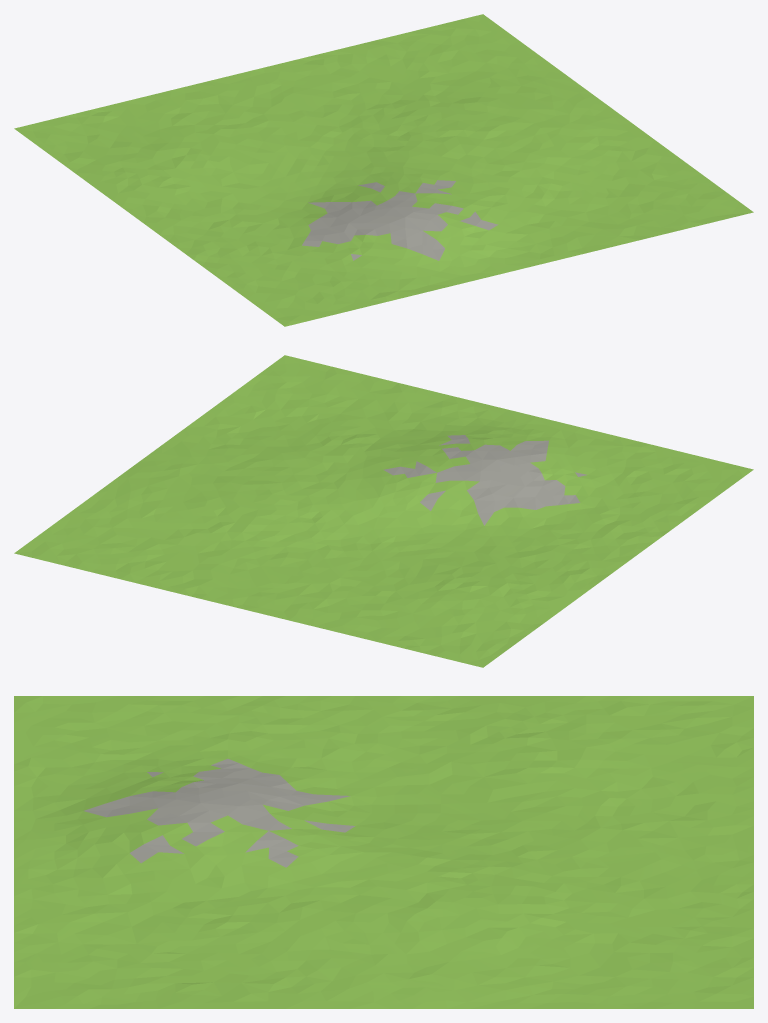
Rendered from terrain_l_b_02.glb.
3 renders of one model, top to bottom at view 1: azimuth 30°, elevation 25°; view 2: azimuth 150°, elevation 25°; view 3: azimuth 270°, elevation 25°, orthographic. The views are drawn at different scales.
Visible parts, largest first — view 1: CPT_Terrain_L_b_02; view 2: CPT_Terrain_L_b_02; view 3: CPT_Terrain_L_b_02.
Part boxes in pixels (x1,y1,x2,y2): CPT_Terrain_L_b_02: (14, 14, 753, 326); CPT_Terrain_L_b_02: (14, 355, 753, 667); CPT_Terrain_L_b_02: (14, 696, 753, 1008).
Bounding box in the file's own units: 100 × 3.41 × 100.
Materials: 1 (1 with a texture image).
